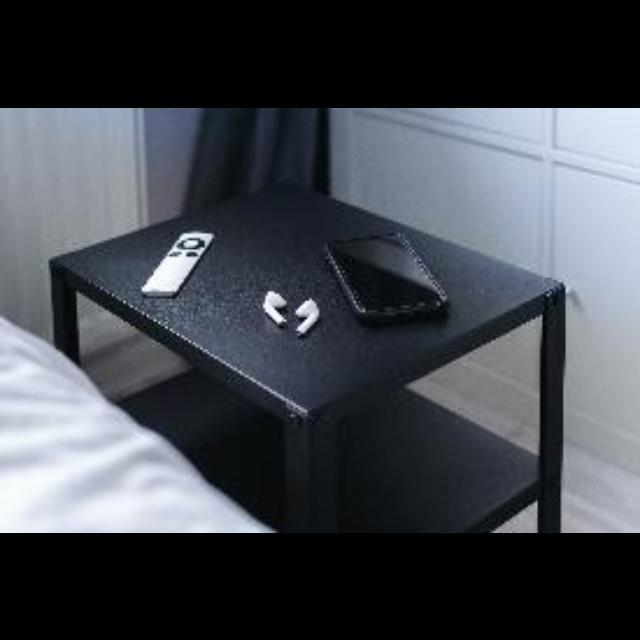phone: (310, 214, 471, 339)
